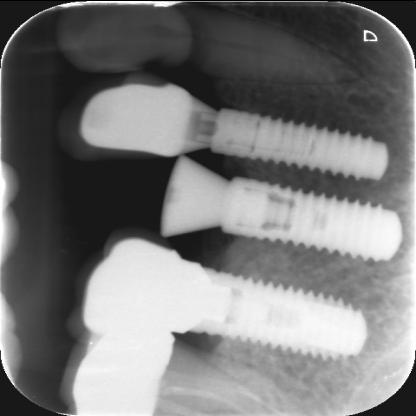ITI: (216, 168, 412, 267), (191, 264, 379, 366), (203, 95, 398, 187)
